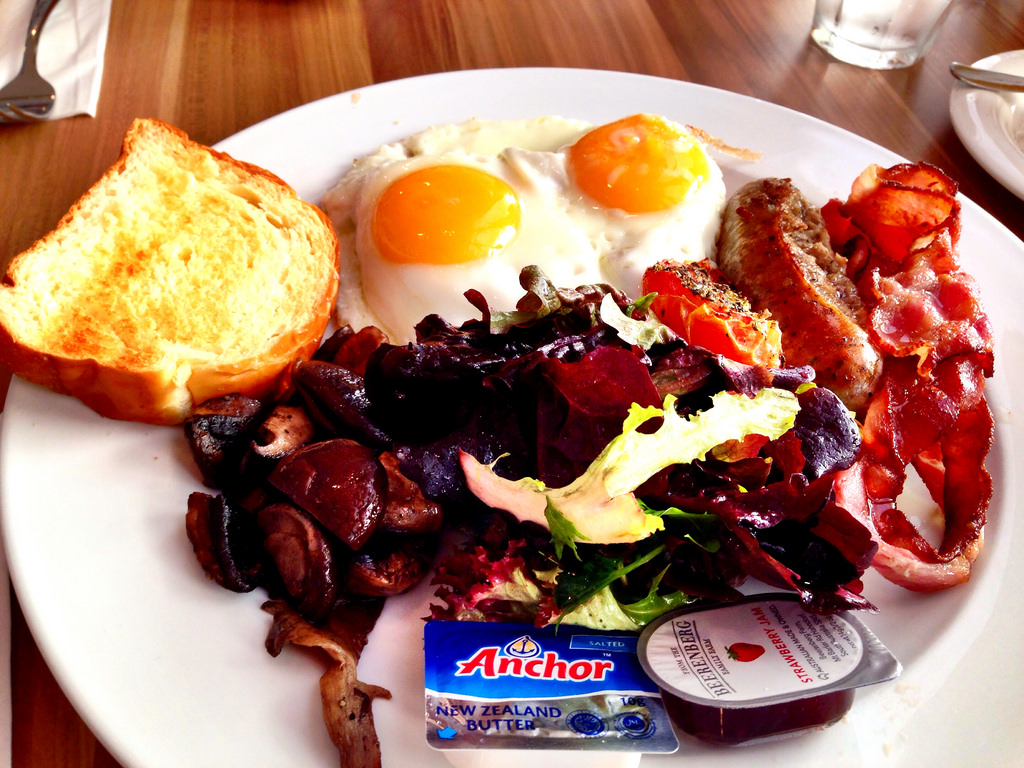fried egg: (513, 96, 743, 304), (339, 129, 572, 332)
slice of bread: (11, 122, 334, 394)
